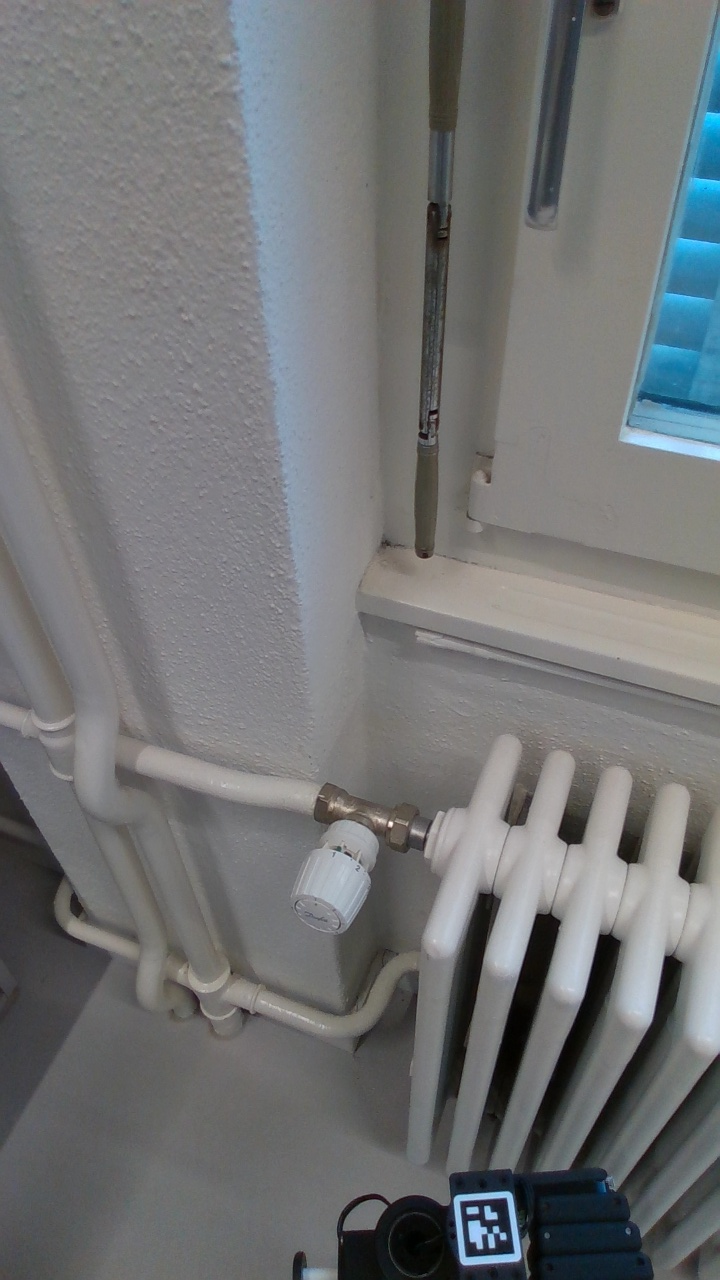Knob_Radiator: (284, 786, 386, 941)
Radiator: (387, 715, 720, 1178)
